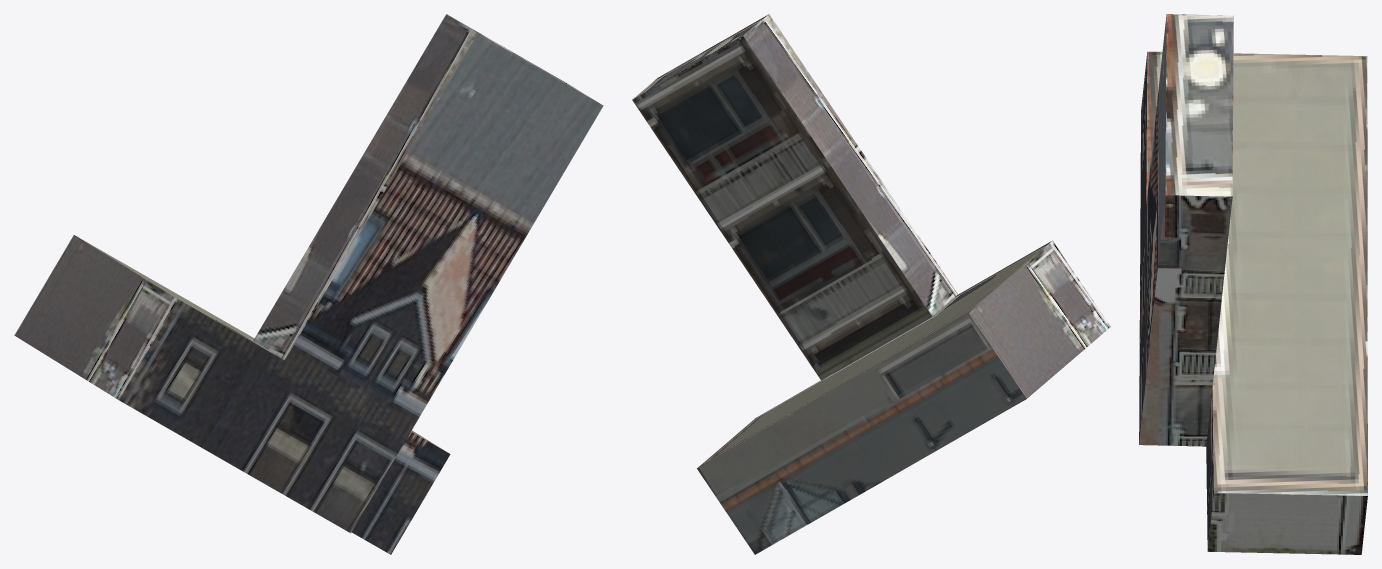
The picture shows the model from 3 angles, left to right: view 1: azimuth 30°, elevation 25°; view 2: azimuth 150°, elevation 25°; view 3: azimuth 270°, elevation 25°; orthographic projection. The views are drawn at different scales.
Visible parts, largest first — view 1: BAG_0599100100019944 (×3); view 2: BAG_0599100100019944 (×3); view 3: BAG_0599100100019944 (×3).
Part boxes in pixels (bbox=[...]): BAG_0599100100019944 (×3): bbox=[14, 14, 603, 554]; BAG_0599100100019944 (×3): bbox=[632, 14, 1110, 554]; BAG_0599100100019944 (×3): bbox=[1139, 14, 1367, 554].
Bounding box in the file's own units: 11.48 × 11.45 × 4.09.
Materials: 3 (3 with a texture image).
